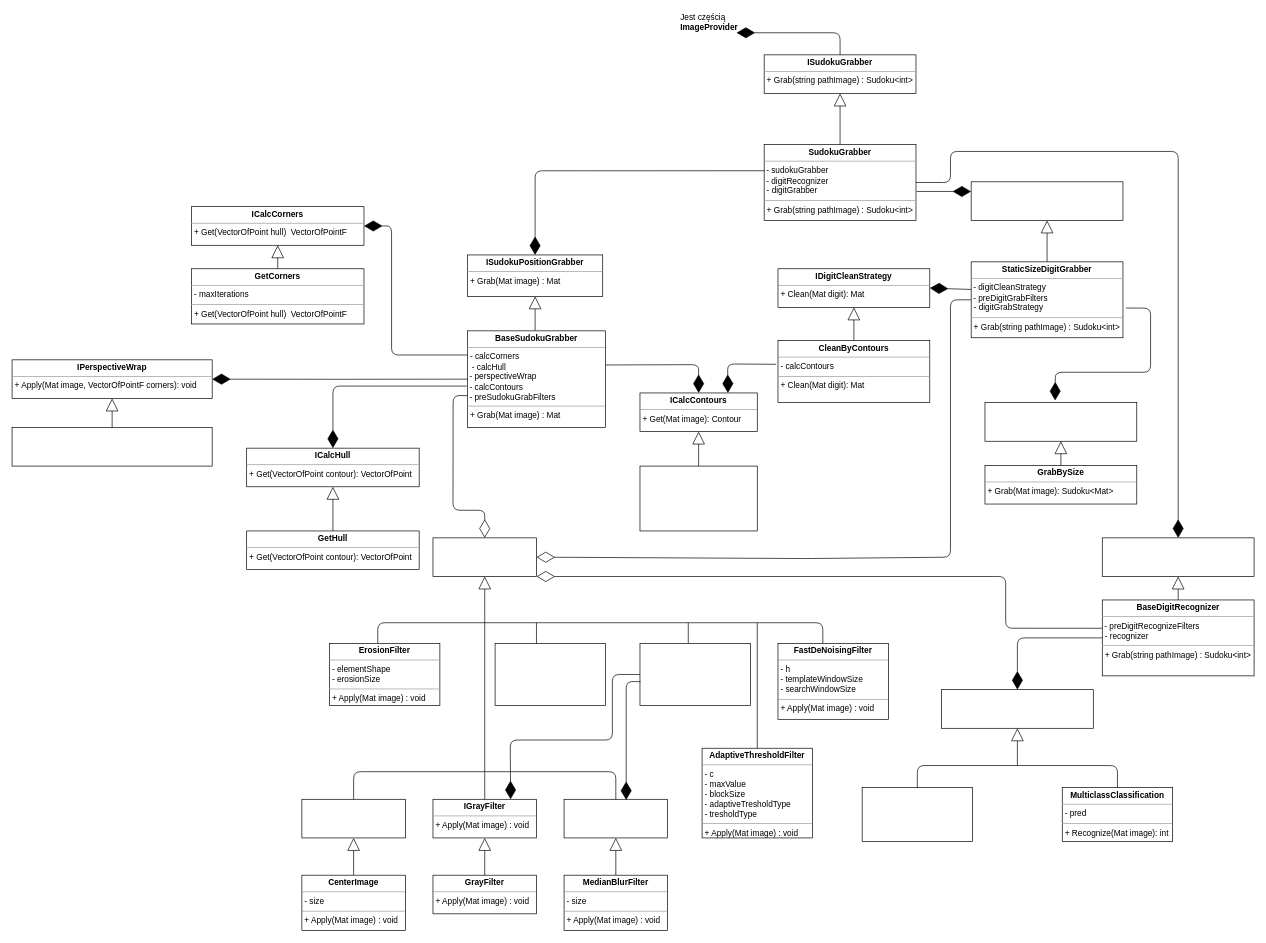
This 1266x943 diagram has some shape labels left out. Here are the shapes that lost their labels. From the top down, the box of each, then its label:
(970, 181, 1123, 220): IDigitGrabber + GetDigits(Mat image) : Sudoku<Mat>
(984, 402, 1137, 441): IDigitGrabStrategy + Grab(Mat image): Sudoku<Mat>
(11, 427, 212, 466): StaticPerspectiveWrap + Apply(Mat image, VectorOfPointF corners): void
(639, 465, 757, 531): GetContours - approxMethod - retrType + Get(Mat image): Contour
(432, 537, 536, 576): IFilter + Apply(Mat image) : void
(1102, 537, 1254, 576): IDigitRecognizer + Recognize(Mat digit) : int
(494, 643, 605, 706): DeskewImage - size + Apply(Mat image) : void
(639, 643, 750, 706): CleanLineImage - grayFilter - medianBlurFilter + Apply(Mat image) : void
(941, 689, 1093, 728): IRecognizer + Recognize(Mat image): int
(301, 799, 405, 838): ICenterImage + Apply(Mat image) : void
(563, 799, 668, 838): IMedianBlurFilter + Apply(Mat image) : void
(861, 787, 973, 841): SVM - svm + Recognize(Mat image): int
